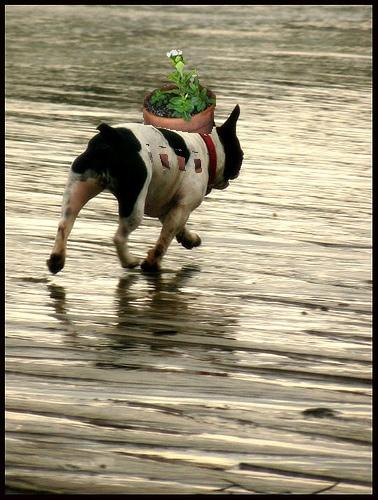tampered: (144, 50, 216, 173)
